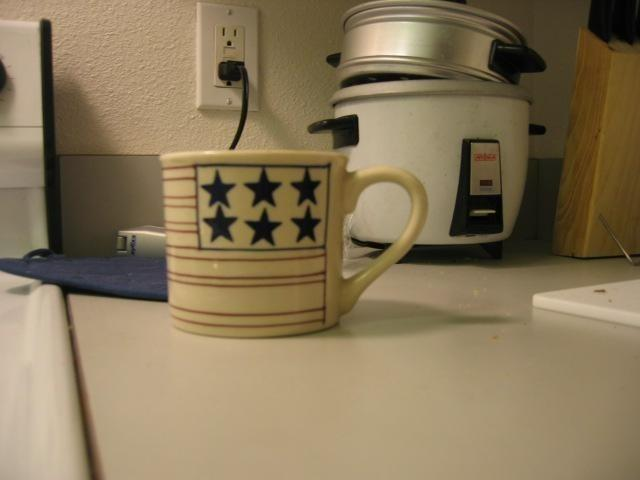cup-handle: (154, 153, 429, 340)
